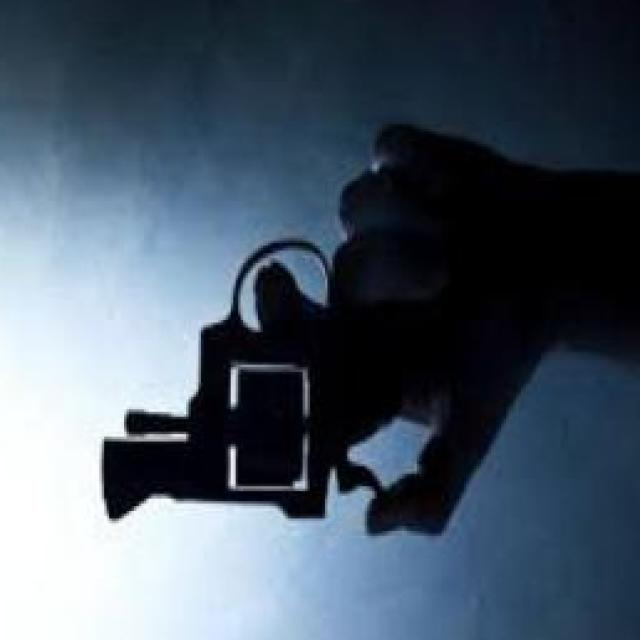pistol: (98, 119, 504, 538)
